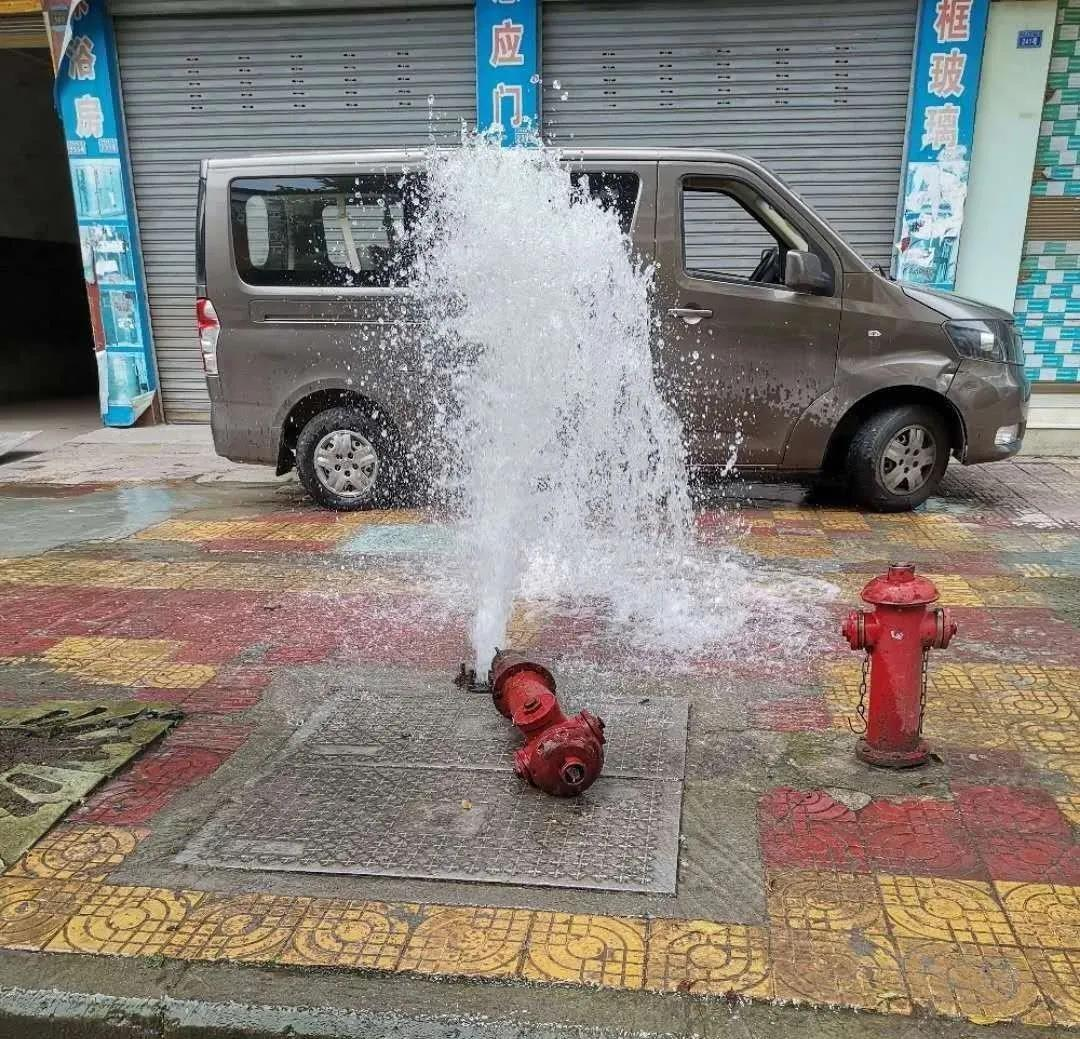pipe burst: (417, 123, 692, 693)
water accumulation: (0, 475, 297, 560)
